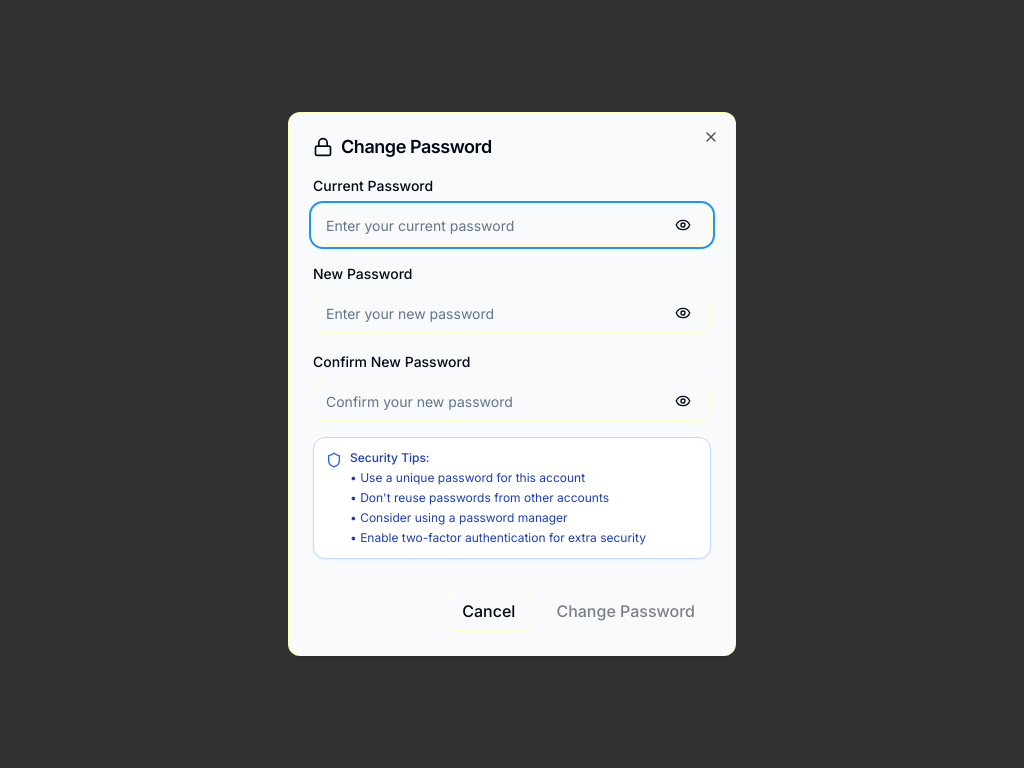
Test case: PasswordChangeModal › validates password confirmation
Note: Set different passwords
Type "password123" into the password field with test id "pwd-new" at [512, 313], box left=313, top=293, right=711, bottom=333
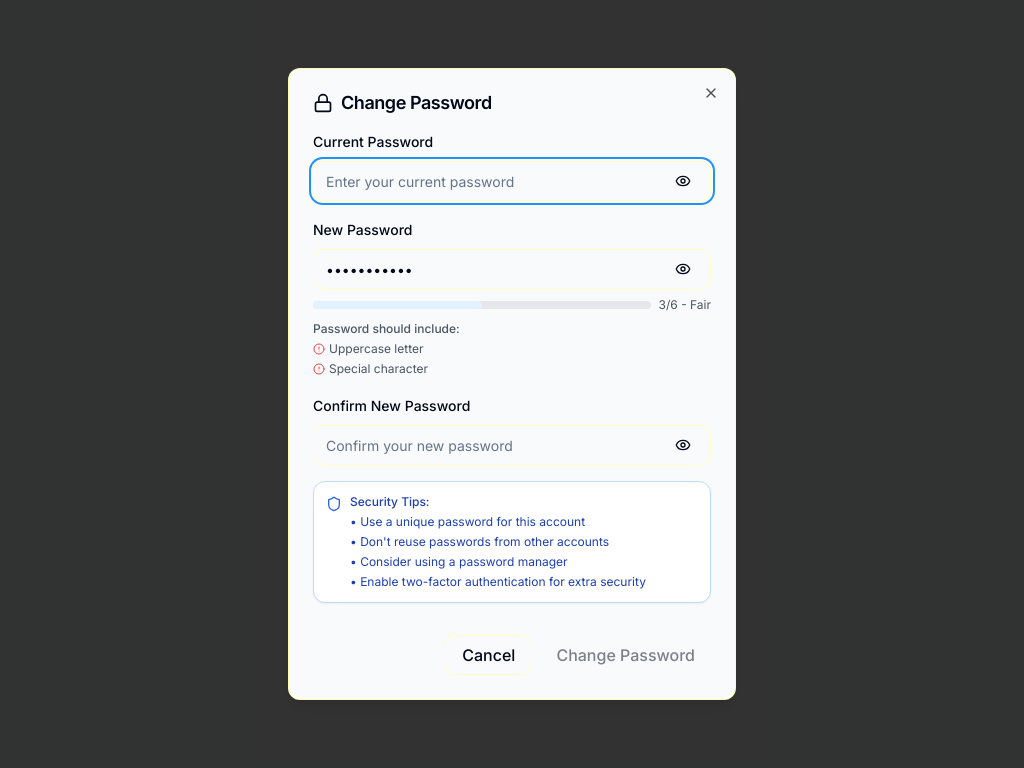
Type "different123" into the password field with test id "pwd-confirm" at [512, 445], box left=313, top=425, right=711, bottom=465
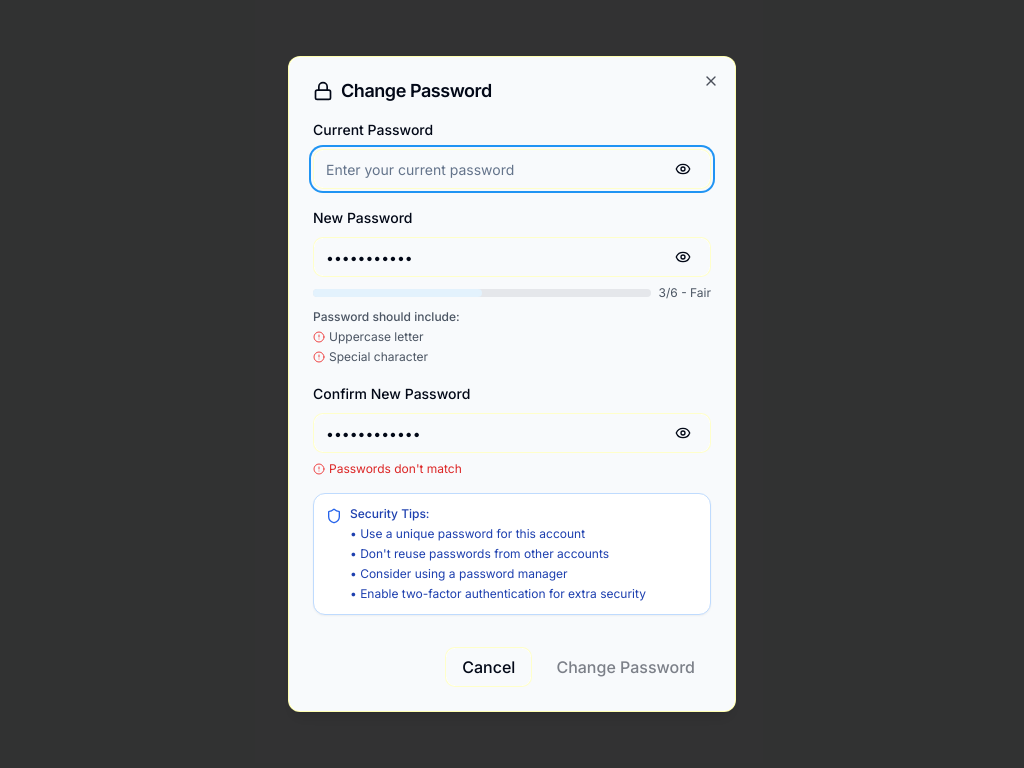
Check: the text "Passwords don't match" is shown, box left=329, top=461, right=462, bottom=477
Note: Set matching passwords
Type "password123" into the password field with test id "pwd-confirm" at [512, 433], box left=313, top=413, right=711, bottom=453
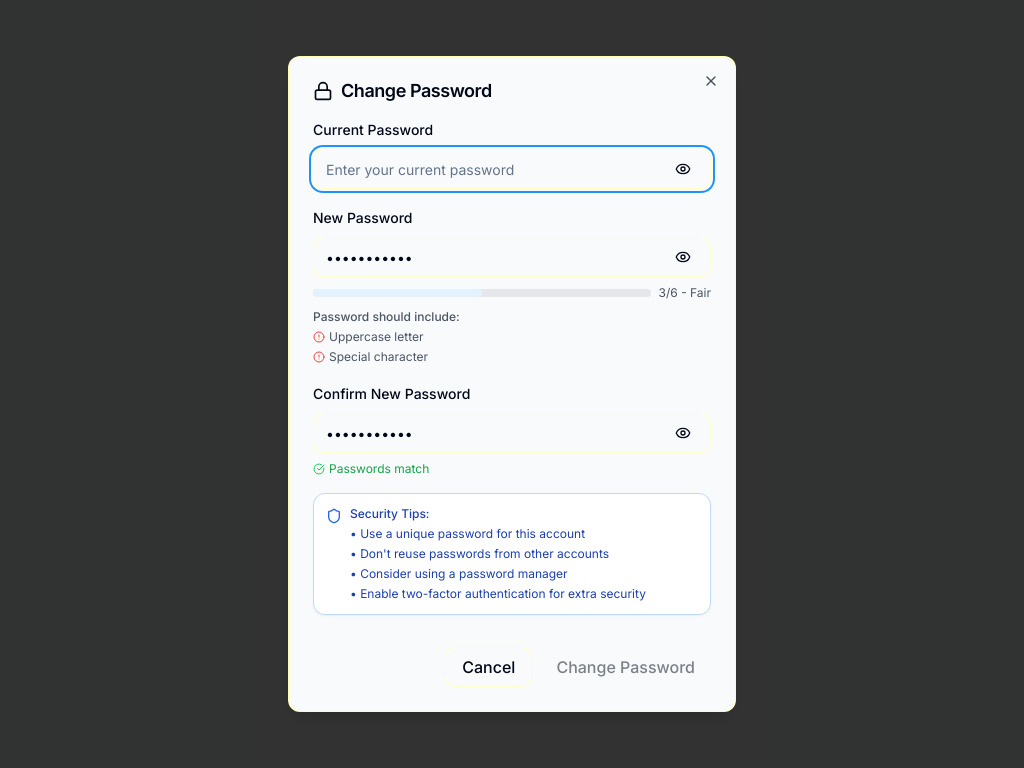
Check: the text "Passwords match" is shown, box left=329, top=461, right=429, bottom=477
